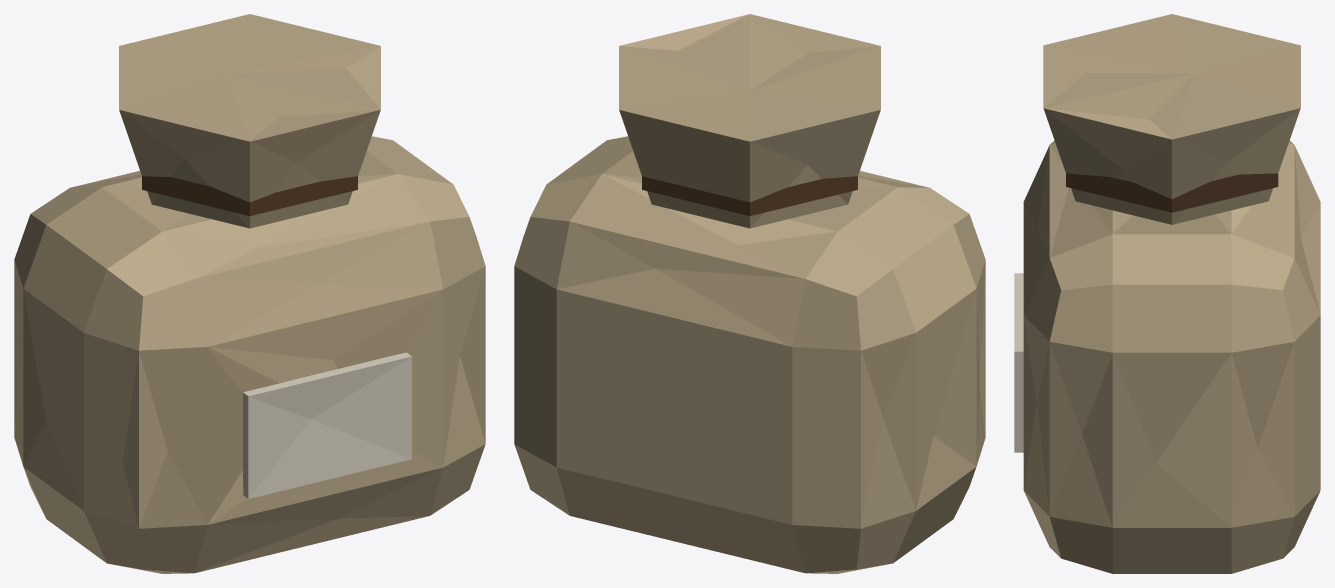
The model's file is food_grain_ris_idle.glb.
3 views of the same model, side by side, from view 1: azimuth 30°, elevation 25°; view 2: azimuth 150°, elevation 25°; view 3: azimuth 270°, elevation 25° (orthographic).
Parts seen in each view (by area): view 1: food_grain_ris_idle; view 2: food_grain_ris_idle; view 3: food_grain_ris_idle.
Part boxes in pixels (bbox=[...]): food_grain_ris_idle: bbox=[14, 14, 485, 573]; food_grain_ris_idle: bbox=[514, 14, 985, 573]; food_grain_ris_idle: bbox=[1014, 14, 1320, 573].
Size of the model in its own units: 0.12 by 0.13 by 0.0825.
1 material, 1 textured.
